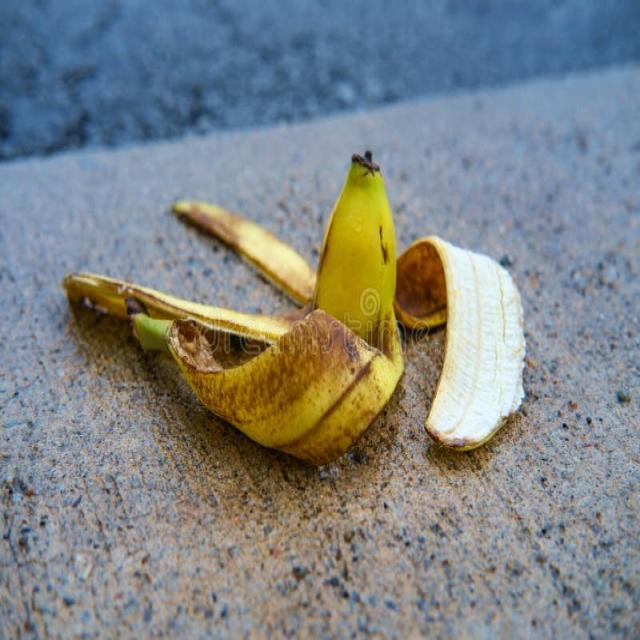banana_peel: (43, 134, 554, 484)
